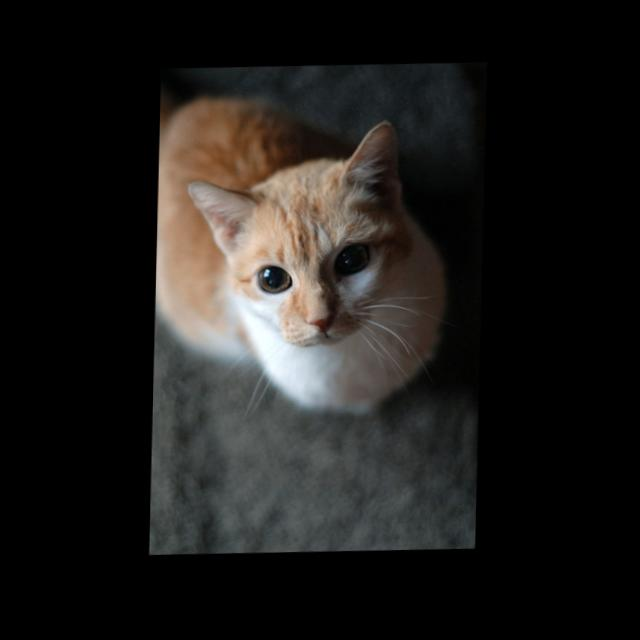animals: (190, 122, 395, 335)
